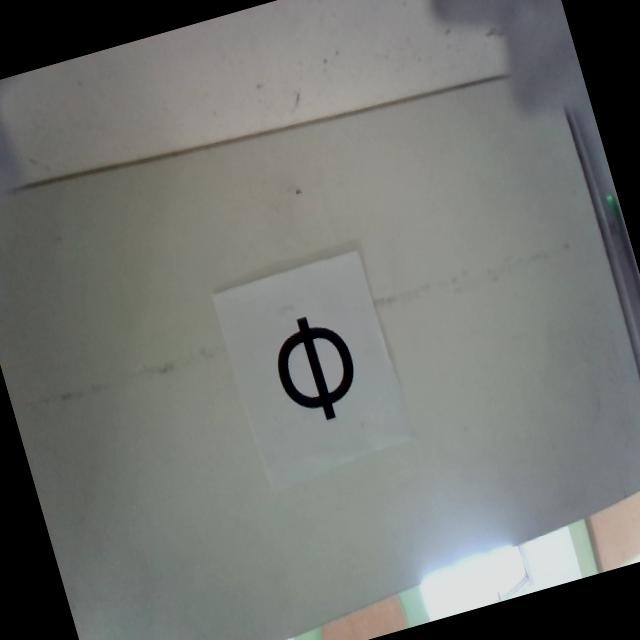F: (264, 308, 366, 429)
